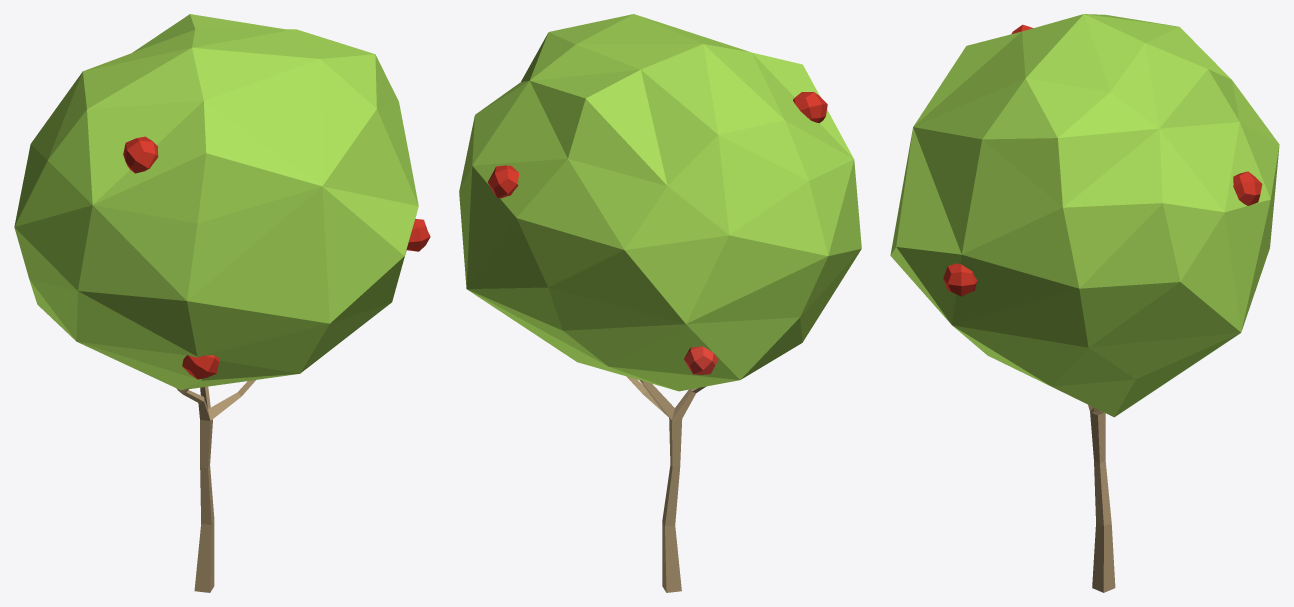
File: Apple_Tree_Apples_s_02_LOD.fbx
3 renders of one model, left to right at view 1: azimuth 30°, elevation 25°; view 2: azimuth 150°, elevation 25°; view 3: azimuth 270°, elevation 25°, orthographic. The views are drawn at different scales.
Visible parts, largest first — view 1: Apple_Tree_Apples_s_02_LOD0; view 2: Apple_Tree_Apples_s_02_LOD0; view 3: Apple_Tree_Apples_s_02_LOD0.
Boxes of the visible parts, left/top/right/bottom form: Apple_Tree_Apples_s_02_LOD0: left=14, top=14, right=430, bottom=592; Apple_Tree_Apples_s_02_LOD0: left=459, top=14, right=861, bottom=592; Apple_Tree_Apples_s_02_LOD0: left=890, top=14, right=1279, bottom=592.
Size of what is drawn, in the model's own units: 223 by 320 by 201.
